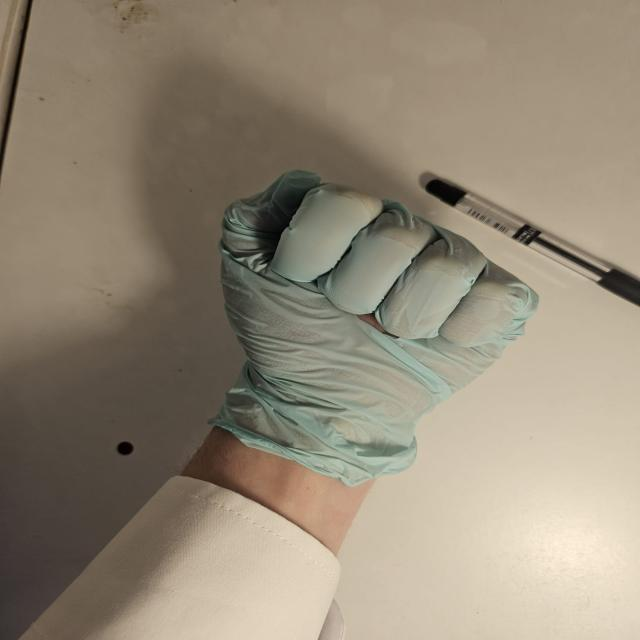gloves_damaged: (195, 156, 554, 482)
